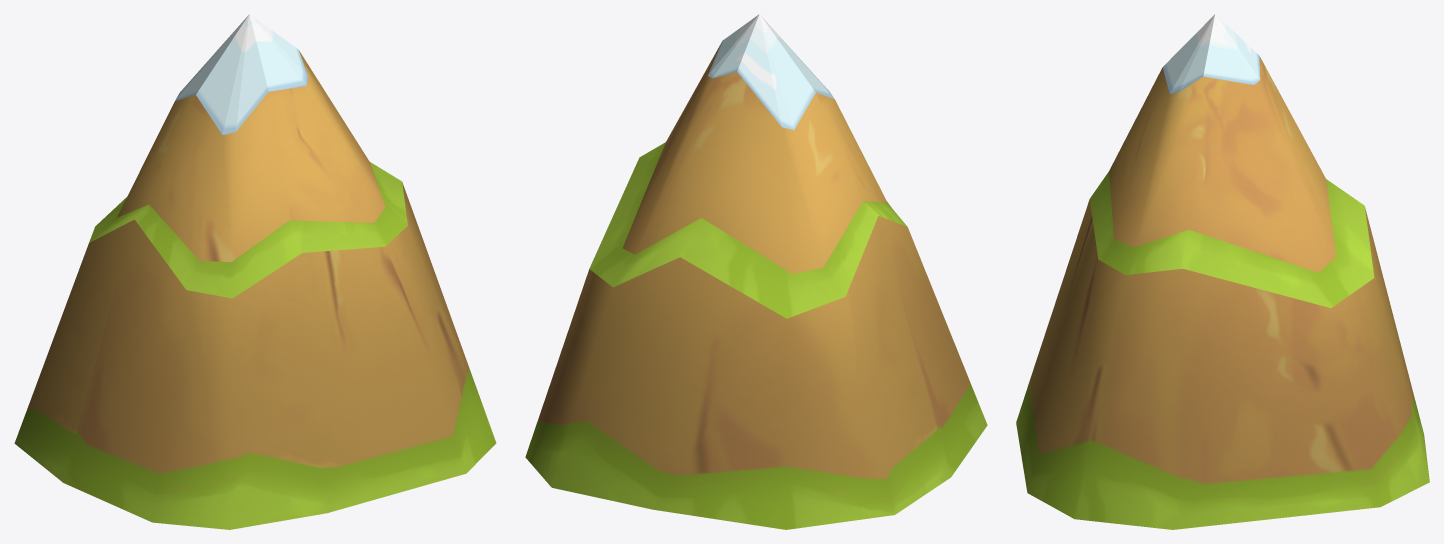
File: generic_model_mountain_small_snowPeak.fbx
3 renders of one model, left to right at view 1: azimuth 30°, elevation 25°; view 2: azimuth 150°, elevation 25°; view 3: azimuth 270°, elevation 25°, orthographic.
Parts seen in each view (by area): view 1: generic_model_mountain_small_snowPeak; view 2: generic_model_mountain_small_snowPeak; view 3: generic_model_mountain_small_snowPeak.
Boxes of the visible parts, x1,y1,x2,y2 form: generic_model_mountain_small_snowPeak: (14,14,496,529); generic_model_mountain_small_snowPeak: (525,14,987,529); generic_model_mountain_small_snowPeak: (1016,14,1429,529).
Size of the model in its own units: 5.22 by 5.42 by 4.84.
